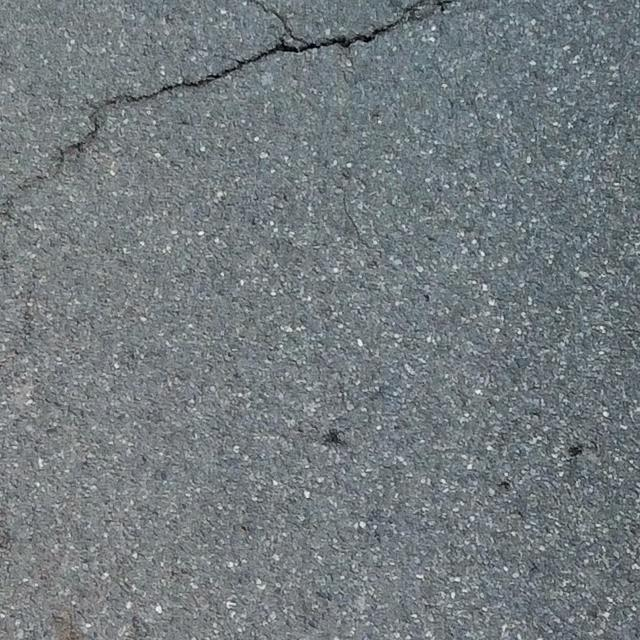TransverseCrack: (57, 1, 425, 160)
